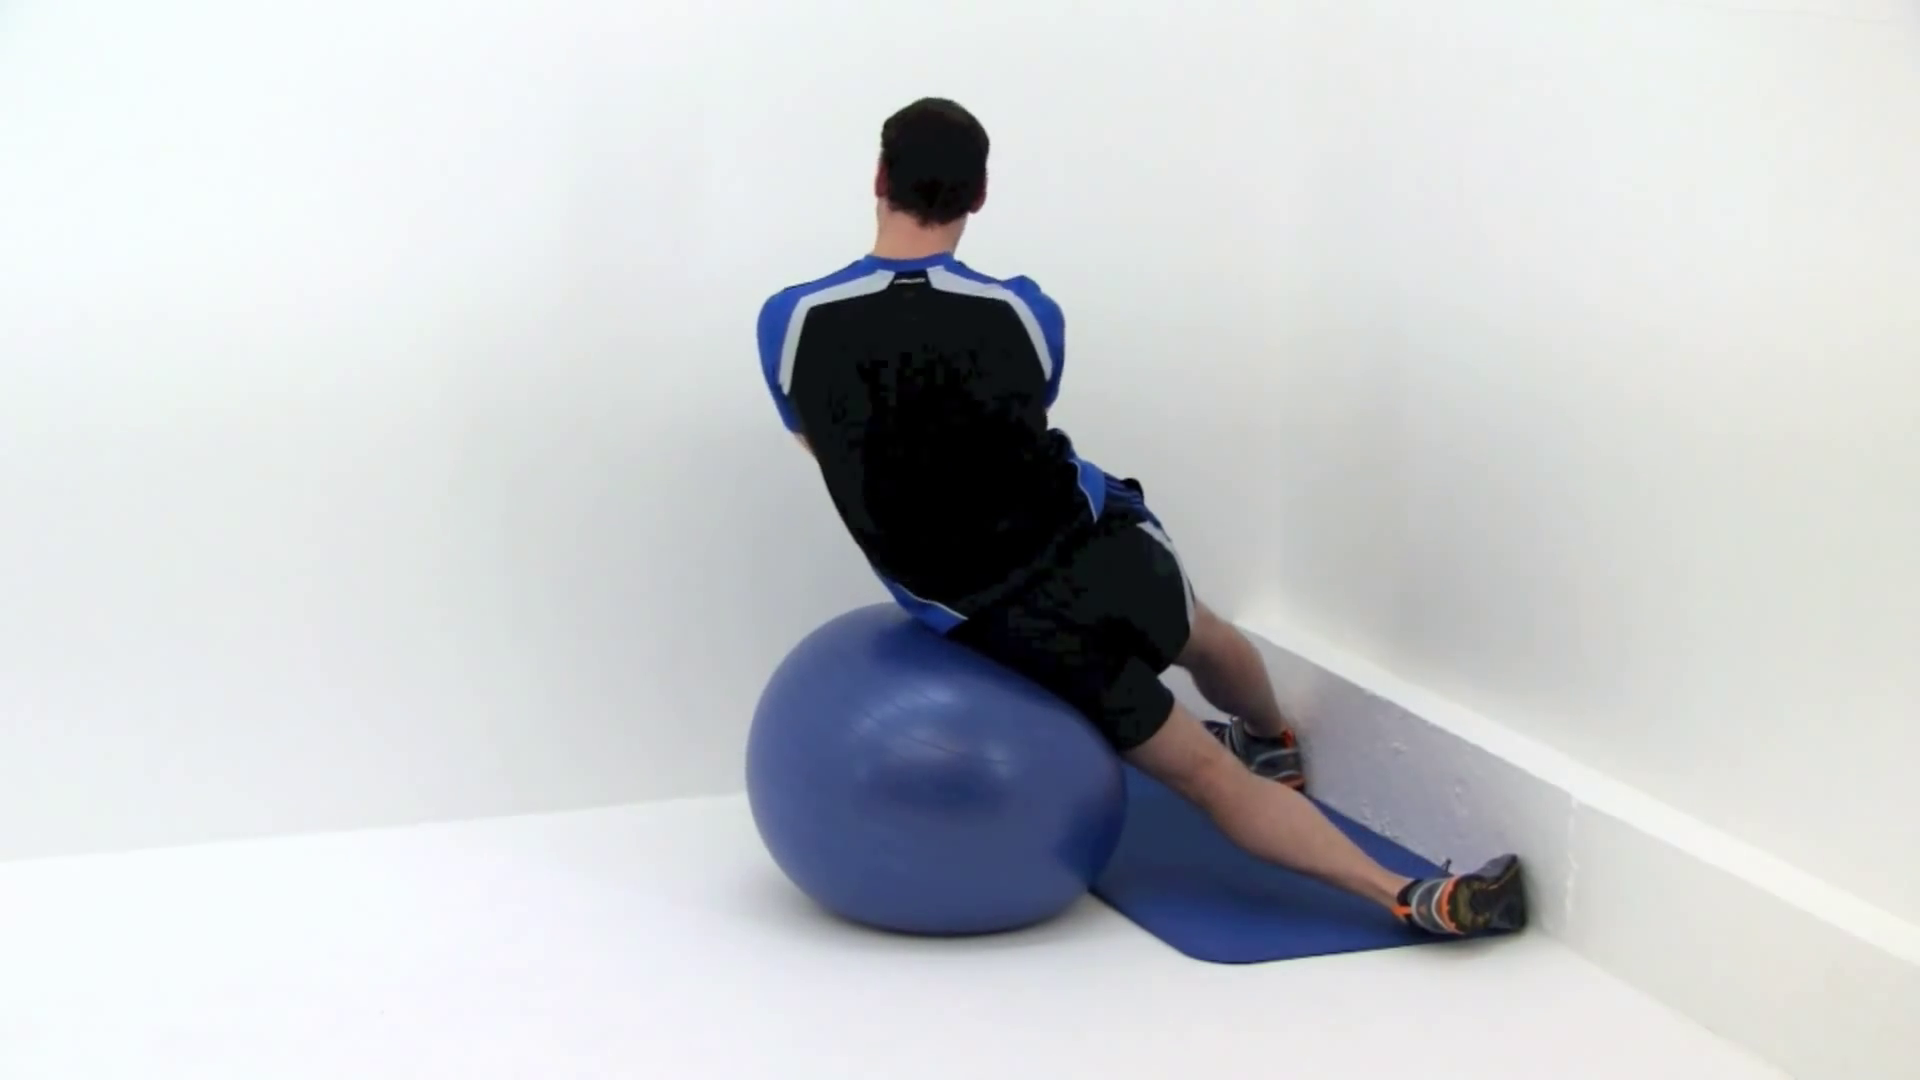yogaball: (727, 603, 1143, 953)
